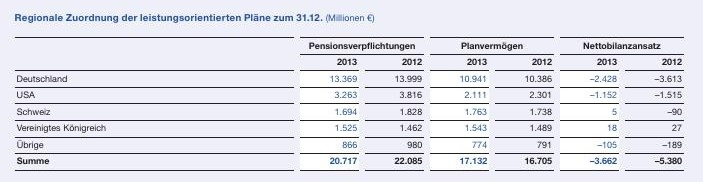table: (0, 0, 703, 182)
